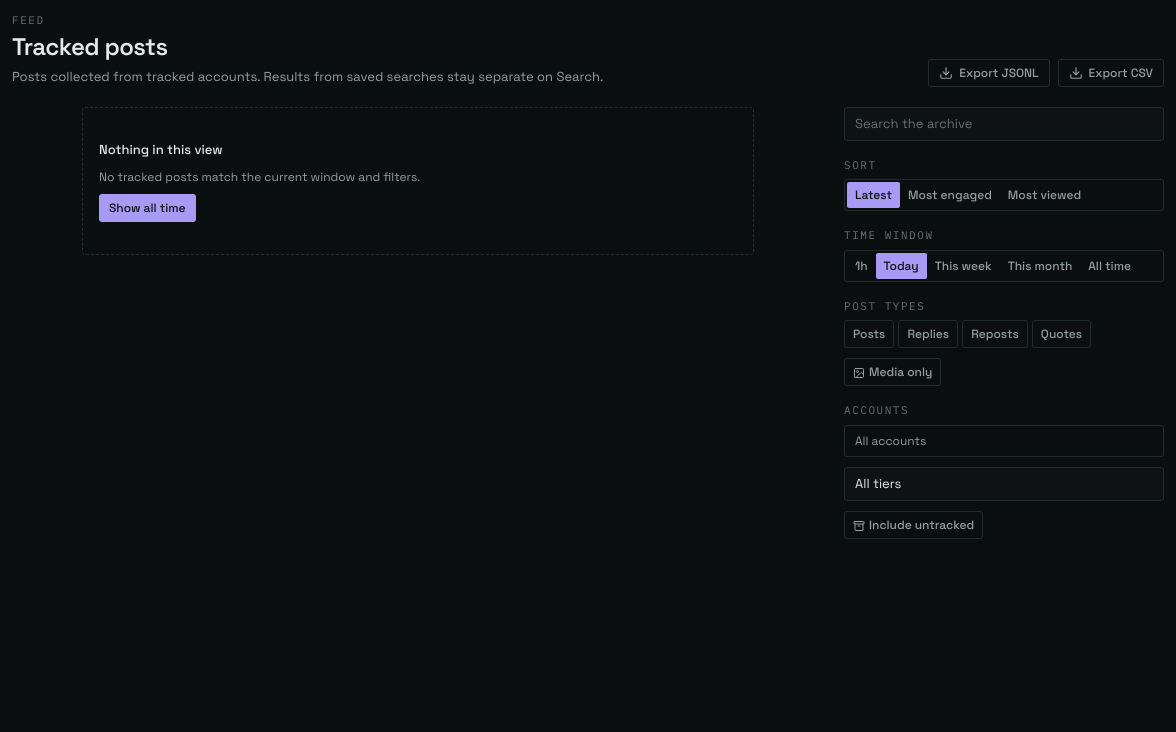
Scenario: Feed export › reports a network failure instead of rejecting unhandled
Click the button "Export CSV": x=1111, y=72 [1058,58,1164,86]
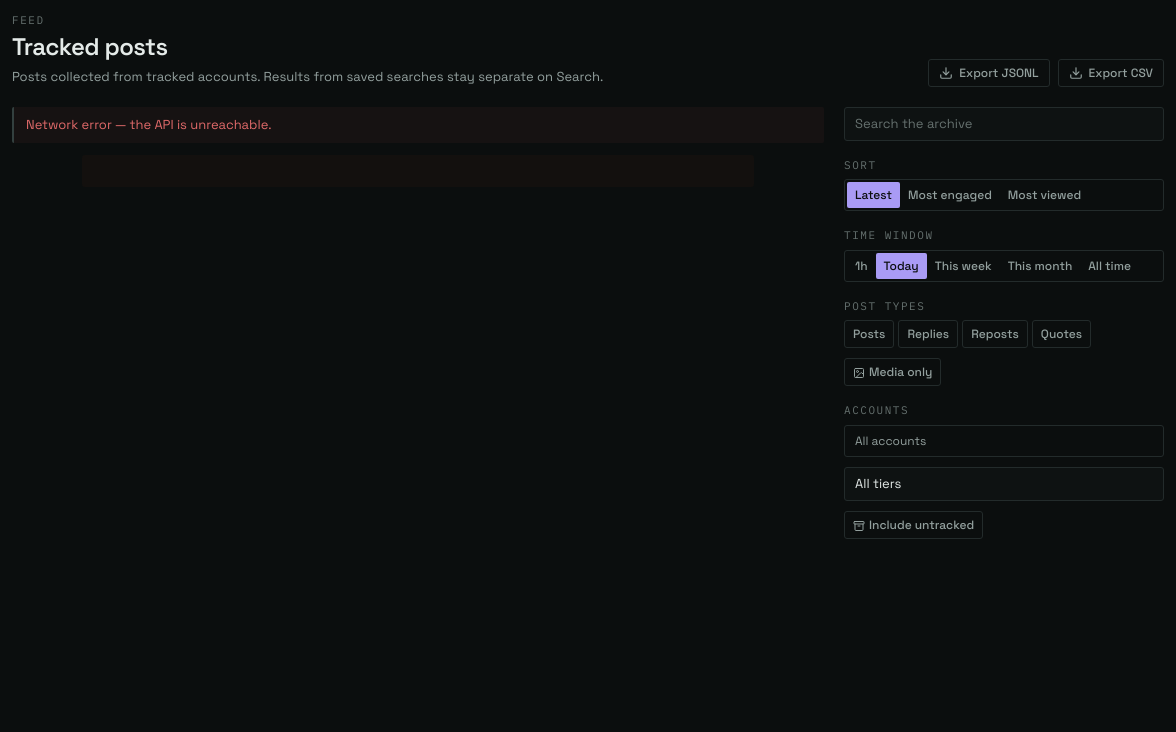
Now the text "Network error — the API is unreachable." is shown, box [12,106,824,142]
